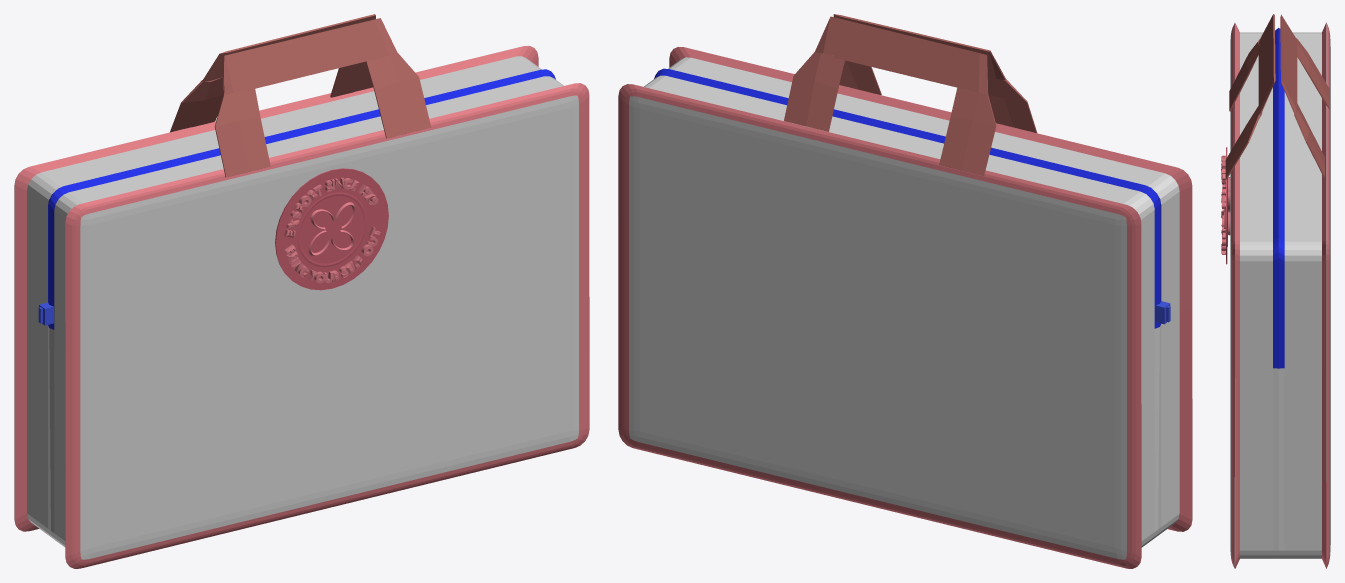
The model's file is tas.gltf.
3 views of the same model, side by side, from view 1: azimuth 30°, elevation 25°; view 2: azimuth 150°, elevation 25°; view 3: azimuth 270°, elevation 25° (orthographic). The views are drawn at different scales.
Parts seen in each view (by area): view 1: Plane, Cylinder, Plane.001, Plane.002, Plane.003, Plane.005, Plane.004, Plane.006, Torus; view 2: Plane, Plane.004, Plane.005, Plane.006, Plane.002, Plane.001, Plane.003; view 3: Plane, Plane.004, Plane.001, Plane.003, Plane.005, Plane.006, Plane.002, Cylinder.
Part boxes in pixels (x1,y1,x2,y2): Plane: [14, 45, 589, 568]; Cylinder: [275, 168, 388, 290]; Plane.001: [223, 18, 397, 95]; Plane.002: [214, 89, 270, 177]; Plane.003: [366, 53, 431, 138]; Plane.005: [170, 77, 223, 132]; Plane.004: [202, 14, 375, 81]; Plane.006: [330, 61, 372, 97]; Torus: [297, 192, 366, 267]; Plane: [618, 46, 1192, 568]; Plane.004: [815, 16, 988, 94]; Plane.005: [939, 87, 996, 175]; Plane.006: [784, 52, 844, 131]; Plane.002: [987, 77, 1037, 132]; Plane.001: [833, 14, 1005, 80]; Plane.003: [839, 60, 881, 94]; Plane: [1230, 22, 1330, 568]; Plane.004: [1280, 14, 1297, 114]; Plane.001: [1258, 14, 1275, 115]; Plane.003: [1225, 106, 1262, 179]; Plane.005: [1296, 38, 1329, 109]; Plane.006: [1294, 103, 1324, 177]; Plane.002: [1229, 39, 1259, 111]; Cylinder: [1226, 147, 1227, 264].
Size of the model in its own units: 1.9 by 1.58 by 0.3835.
